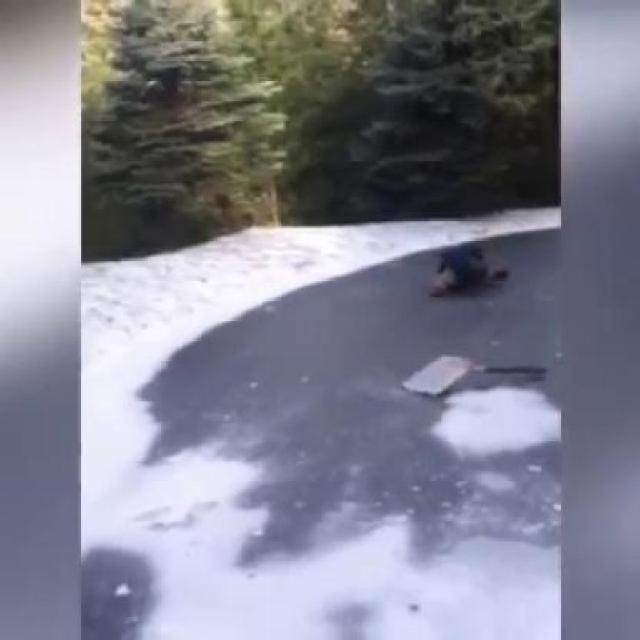fall: (426, 239, 509, 299)
